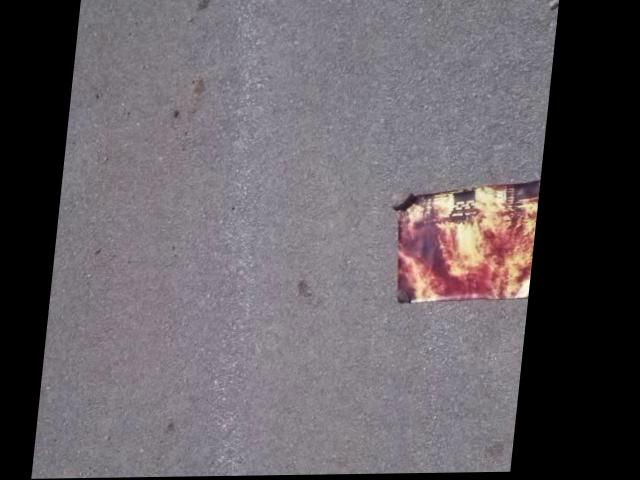fire-poster: (386, 178, 544, 308)
